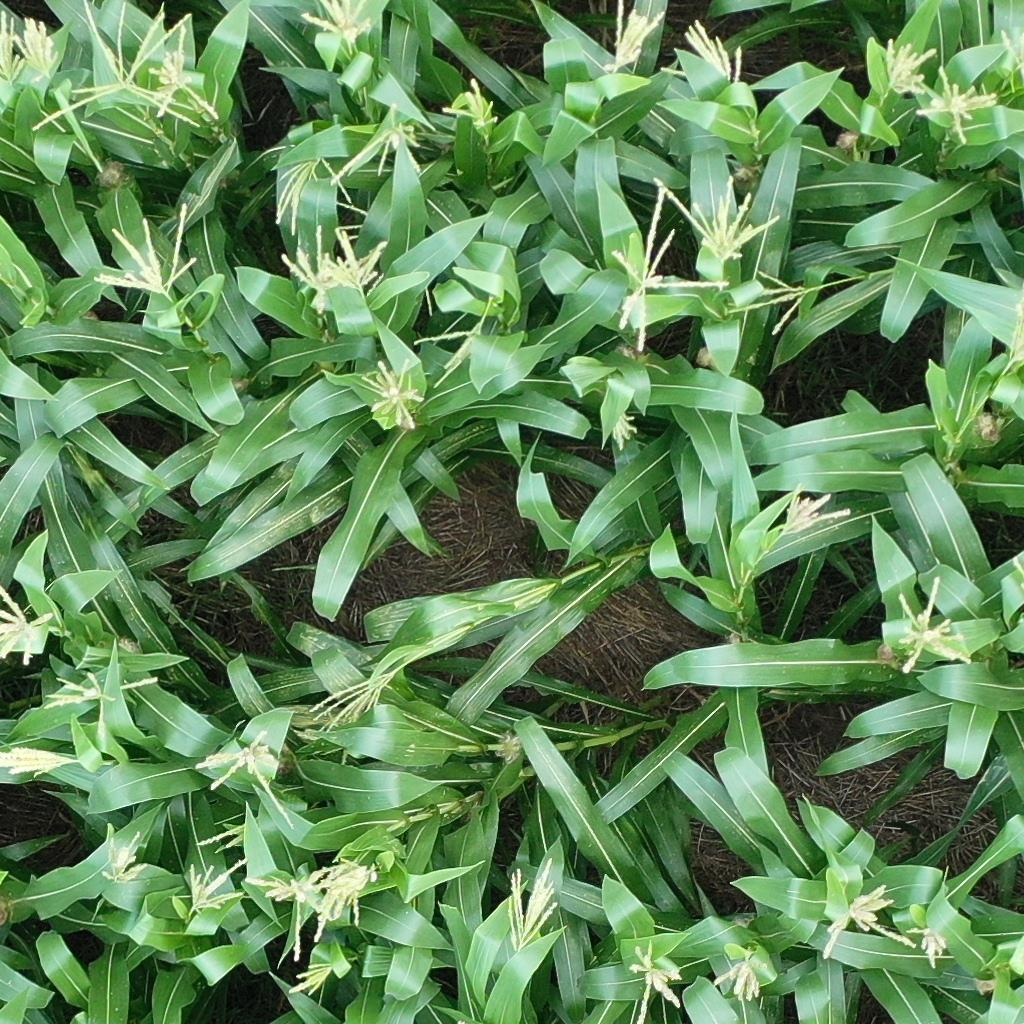Tassel: (33, 1, 194, 133), (609, 184, 734, 348), (648, 166, 787, 263), (194, 728, 303, 835), (91, 198, 200, 300), (884, 571, 971, 676), (145, 26, 232, 128), (329, 102, 427, 187), (819, 884, 919, 960), (913, 63, 1003, 146), (270, 149, 353, 234), (661, 18, 751, 92), (304, 666, 403, 733), (247, 865, 317, 958), (729, 265, 814, 339), (500, 856, 565, 952), (413, 308, 496, 381), (314, 856, 382, 940), (1, 582, 61, 669), (279, 219, 345, 295), (361, 355, 428, 429), (323, 223, 392, 293), (628, 942, 686, 1024), (775, 484, 861, 539), (602, 1, 670, 65), (45, 675, 165, 710), (180, 858, 250, 910), (878, 35, 939, 94), (1, 741, 87, 781), (99, 826, 155, 887), (301, 1, 377, 45), (12, 14, 61, 82), (442, 77, 505, 129), (712, 952, 775, 1003), (294, 957, 342, 1005), (600, 400, 641, 453), (193, 819, 255, 854), (908, 923, 953, 971), (1, 8, 27, 86), (996, 301, 1024, 371), (994, 18, 1024, 81)
